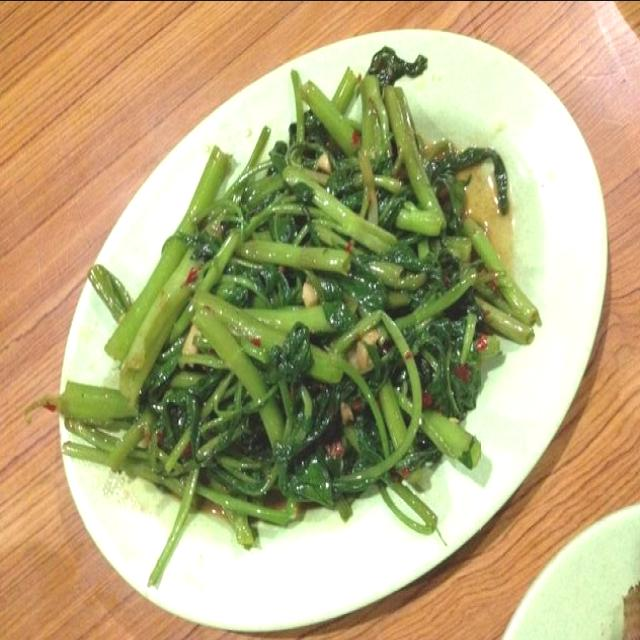tumis kangkung: (60, 49, 543, 586)
